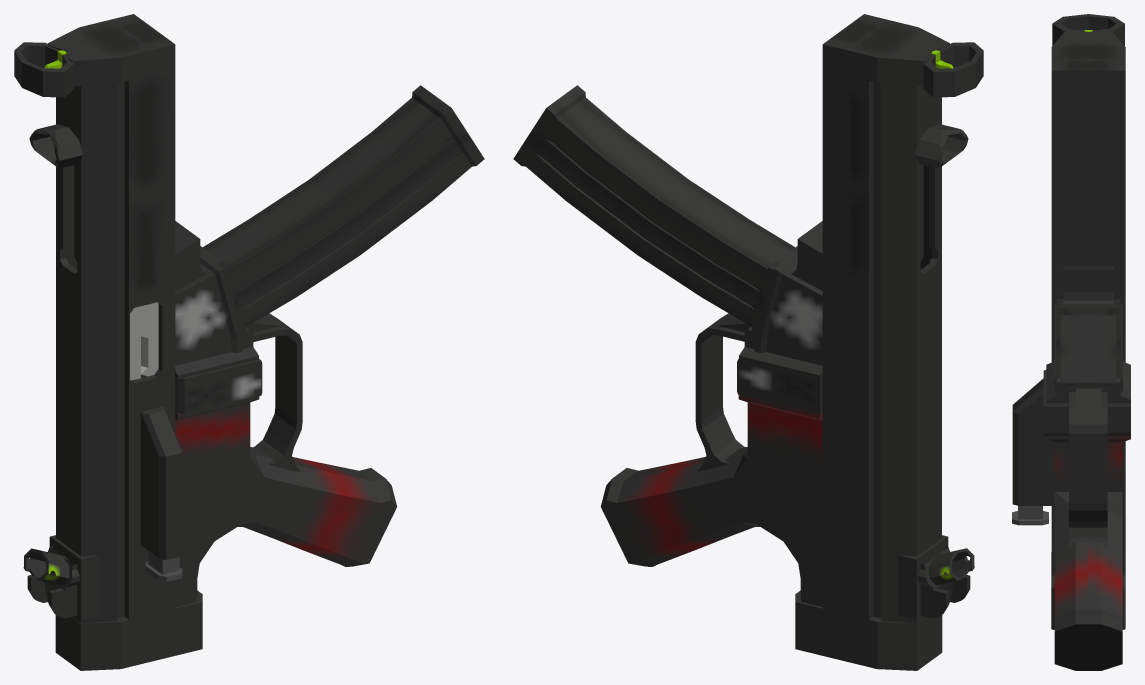
Rendered from ReplikaSMG.fbx.
3 renders of one model, left to right at view 1: azimuth 30°, elevation 25°; view 2: azimuth 150°, elevation 25°; view 3: azimuth 270°, elevation 25°, orthographic. The views are drawn at different scales.
Visible parts, largest first — view 1: Pistol Smol.002; view 2: Pistol Smol.002; view 3: Pistol Smol.002.
Boxes of the visible parts, x1,y1,x2,y2 form: Pistol Smol.002: (14, 14, 484, 670); Pistol Smol.002: (513, 14, 983, 670); Pistol Smol.002: (1012, 14, 1130, 670).
Bounding box in the file's own units: 0.0593 × 0.3005 × 0.2299.
